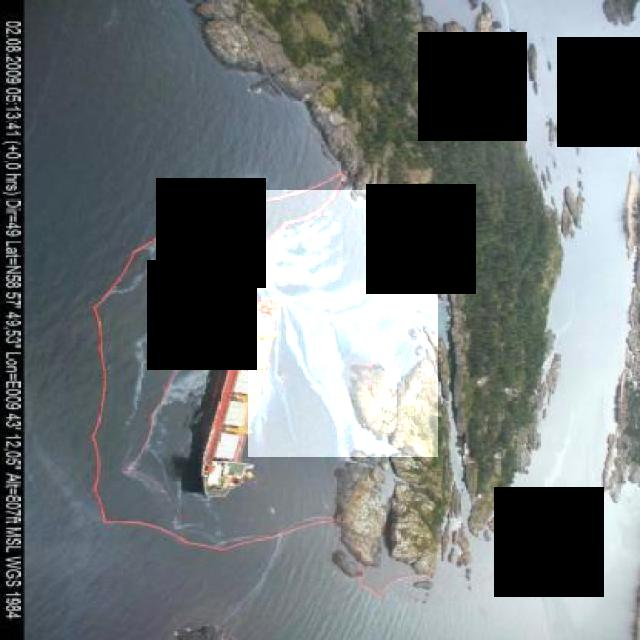oil spill: (248, 190, 438, 457)
